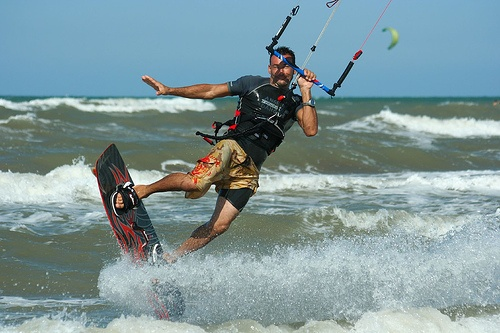head: (267, 47, 299, 87)
person: (122, 54, 320, 266)
